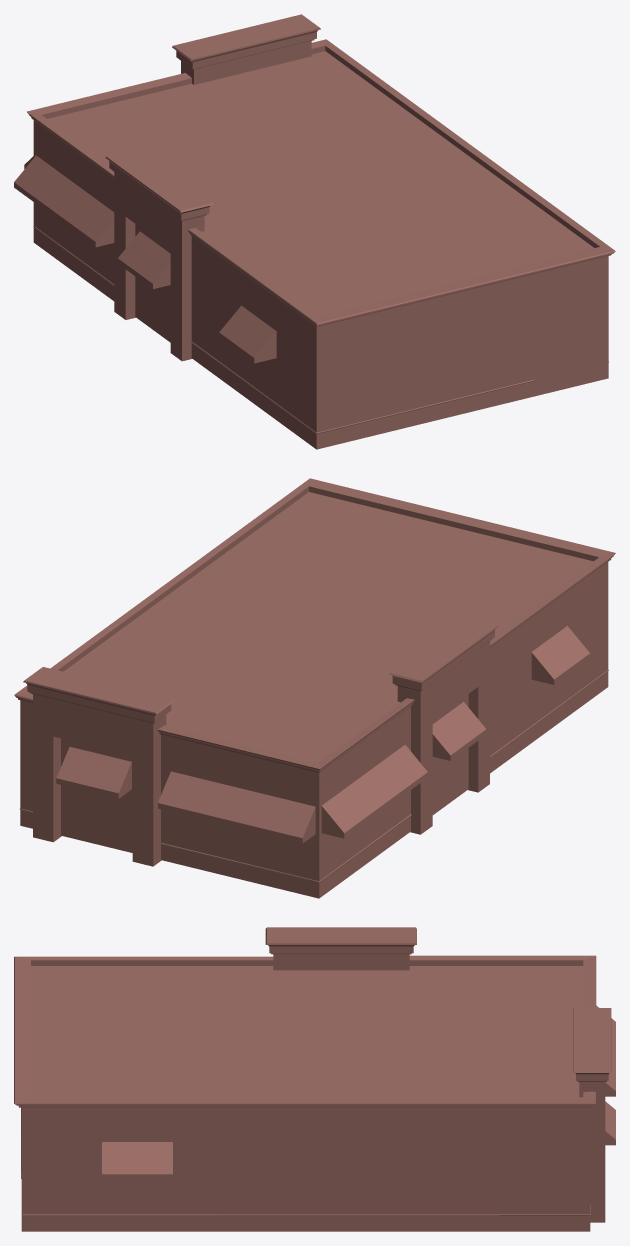
File: burger-joint.lod2.glb
The picture shows the model from 3 angles, top to bottom: view 1: azimuth 30°, elevation 25°; view 2: azimuth 150°, elevation 25°; view 3: azimuth 270°, elevation 25°; orthographic projection. The views are drawn at different scales.
Visible parts, largest first — view 1: Object_2; view 2: Object_2; view 3: Object_2.
Part boxes in pixels (x1,y1,x2,y2): Object_2: [14, 14, 615, 449]; Object_2: [14, 478, 615, 898]; Object_2: [14, 927, 615, 1231].
Size of the model in its own units: 18.01 by 7.88 by 27.76.
